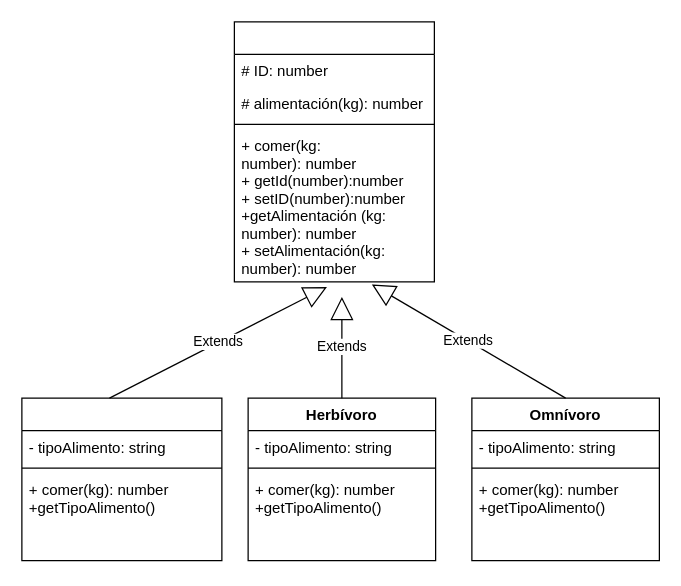
This 681x586 diagram has some shape labels left out. The shapes that lost their labels are listed below. From the top down, each one's box as (x1, y1, x2, y2) in pixels, then its label:
(233, 21, 434, 282): Mamíferos
(21, 397, 222, 561): Carnívoro
